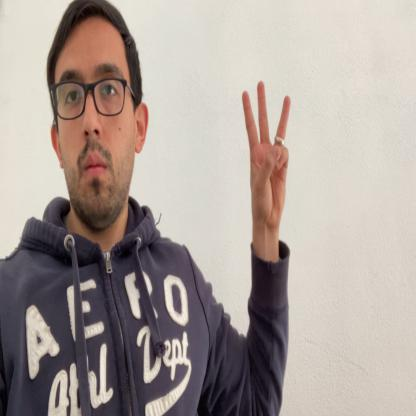W: (242, 80, 291, 226)
